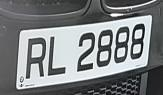2: (75, 29, 97, 75)
8: (114, 23, 130, 66), (97, 28, 113, 69), (131, 21, 145, 62)
L: (46, 32, 70, 81)
R: (23, 32, 49, 83)
